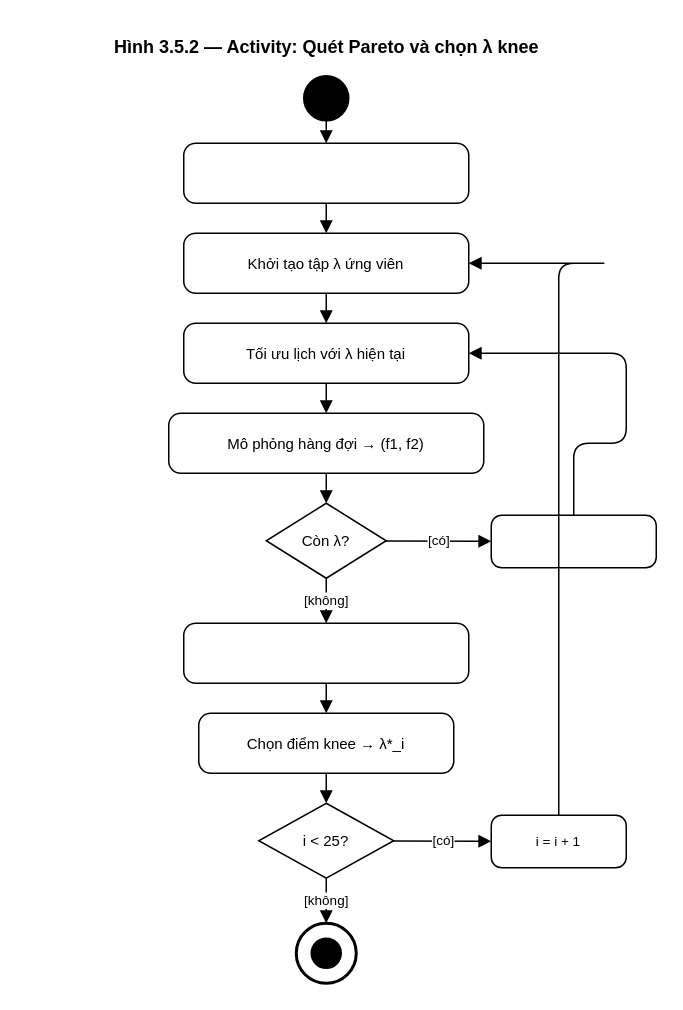
This 683x1010 diagram has some shape labels left out. Here are the shapes that lost their labels. From the top down, the box of each, then its label:
(182, 142, 469, 203): Chọn tuyến i (i = 1…25)
(490, 514, 656, 568): λ = λ tiếp theo
(182, 622, 469, 683): Dựng đường biên Pareto
